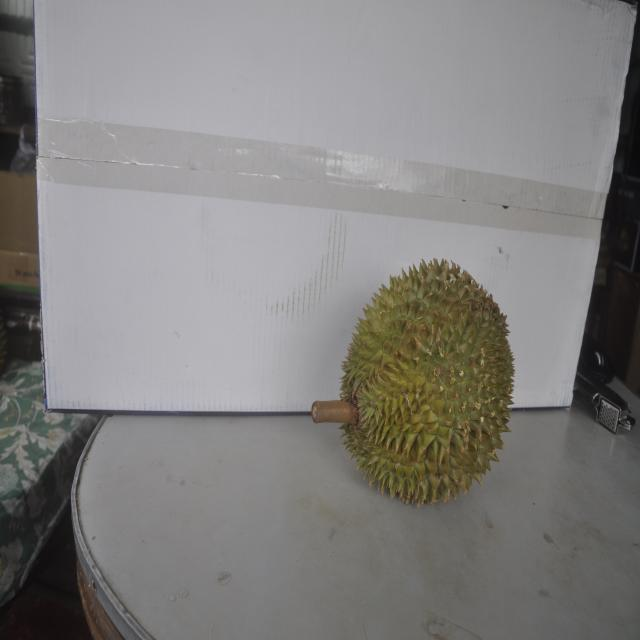mature: (332, 255, 517, 506)
